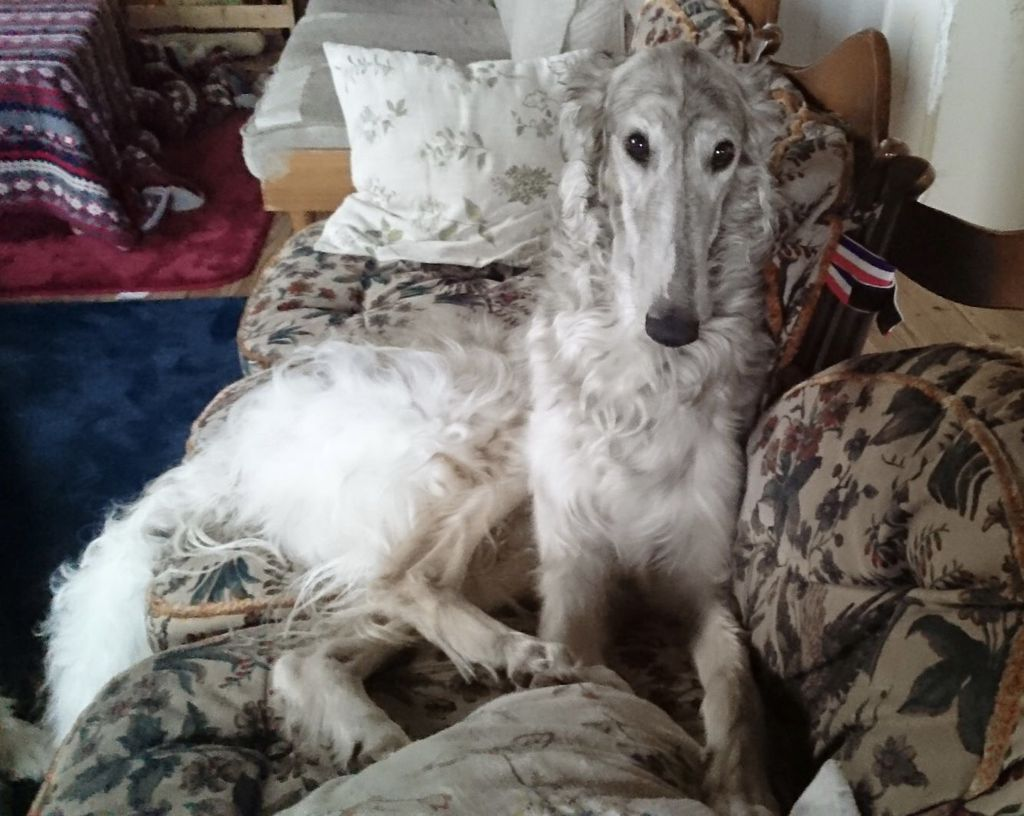borzoi: (30, 55, 859, 739)
